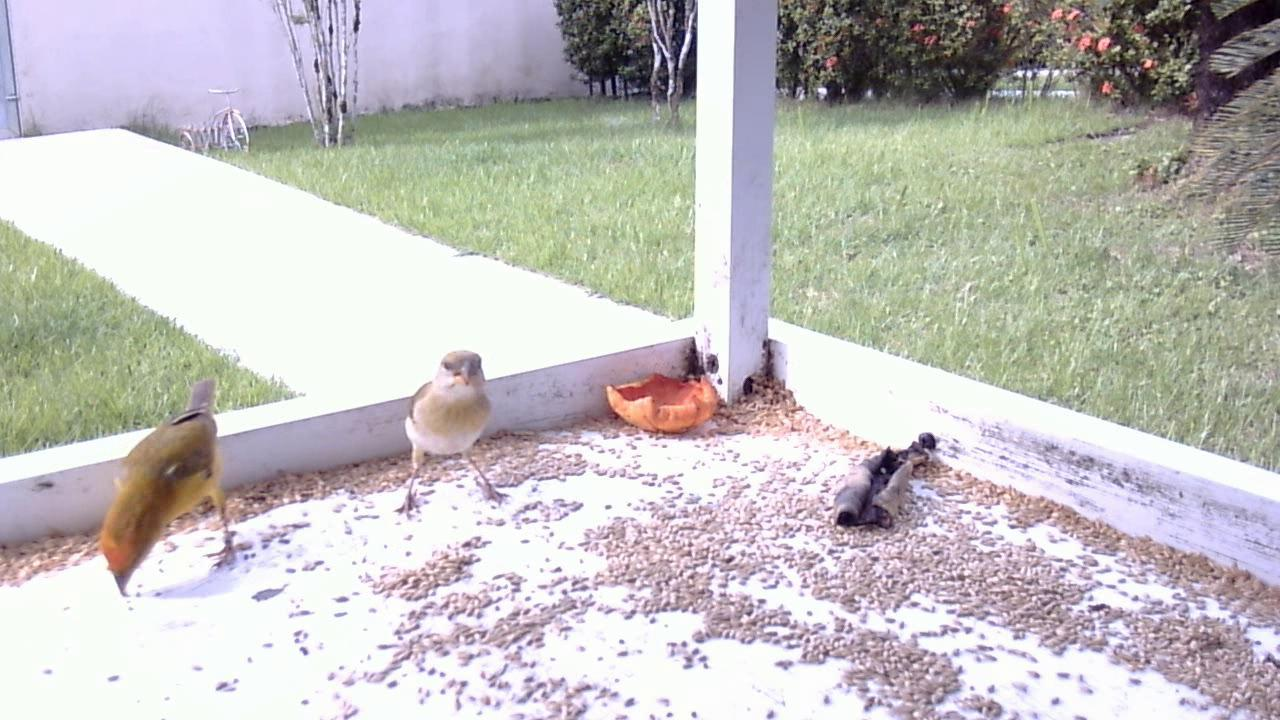canario_do_amazonas: (91, 368, 250, 604), (389, 343, 520, 526)
